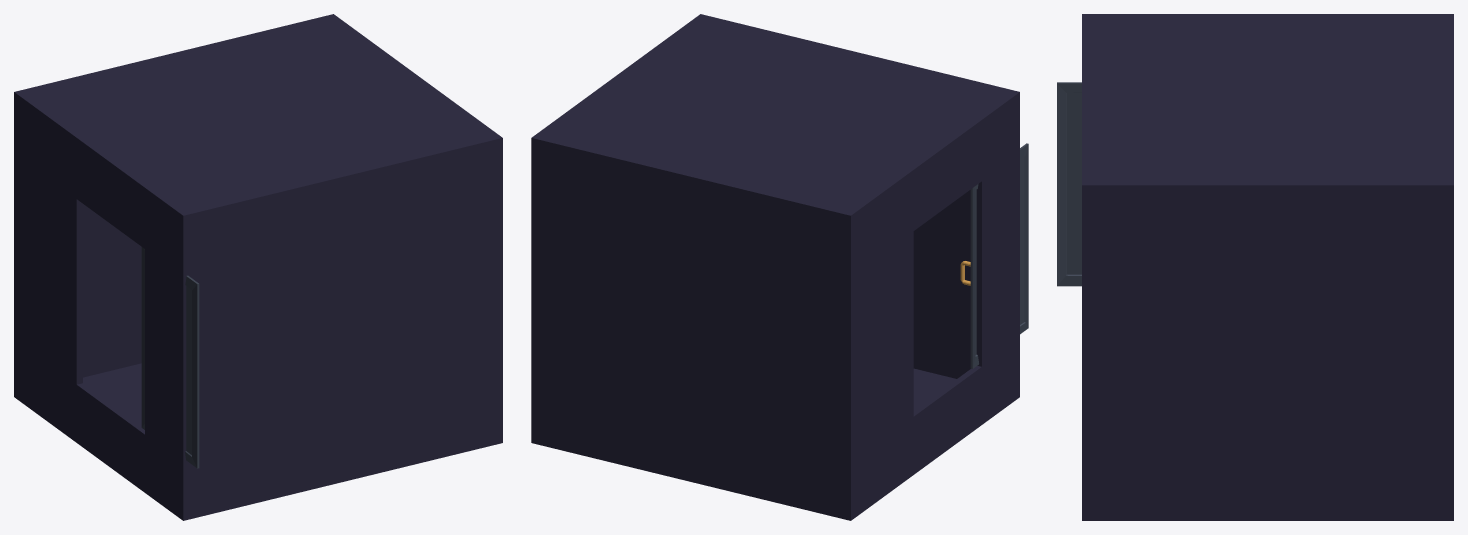
Rendered from garita_padre.fbx.
3 renders of one model, left to right at view 1: azimuth 30°, elevation 25°; view 2: azimuth 150°, elevation 25°; view 3: azimuth 270°, elevation 25°, orthographic. The views are drawn at different scales.
Visible parts, largest first — view 1: garita_walls, garita_roof_rearwall, shutter; view 2: garita_walls, garita_roof_rearwall, shutter; view 3: garita_roof_rearwall, garita_walls, shutter.
Part boxes in pixels (left/top/right/bottom): garita_walls: left=14, top=14, right=502, bottom=520; garita_roof_rearwall: left=183, top=138, right=502, bottom=520; shutter: left=141, top=247, right=199, bottom=468; garita_walls: left=531, top=14, right=1019, bottom=520; garita_roof_rearwall: left=913, top=190, right=970, bottom=378; shutter: left=970, top=143, right=1028, bottom=368; garita_roof_rearwall: left=1082, top=185, right=1453, bottom=520; garita_walls: left=1082, top=14, right=1453, bottom=185; shutter: left=1057, top=82, right=1081, bottom=286.
Size of the model in its own units: 208 by 190 by 204.
